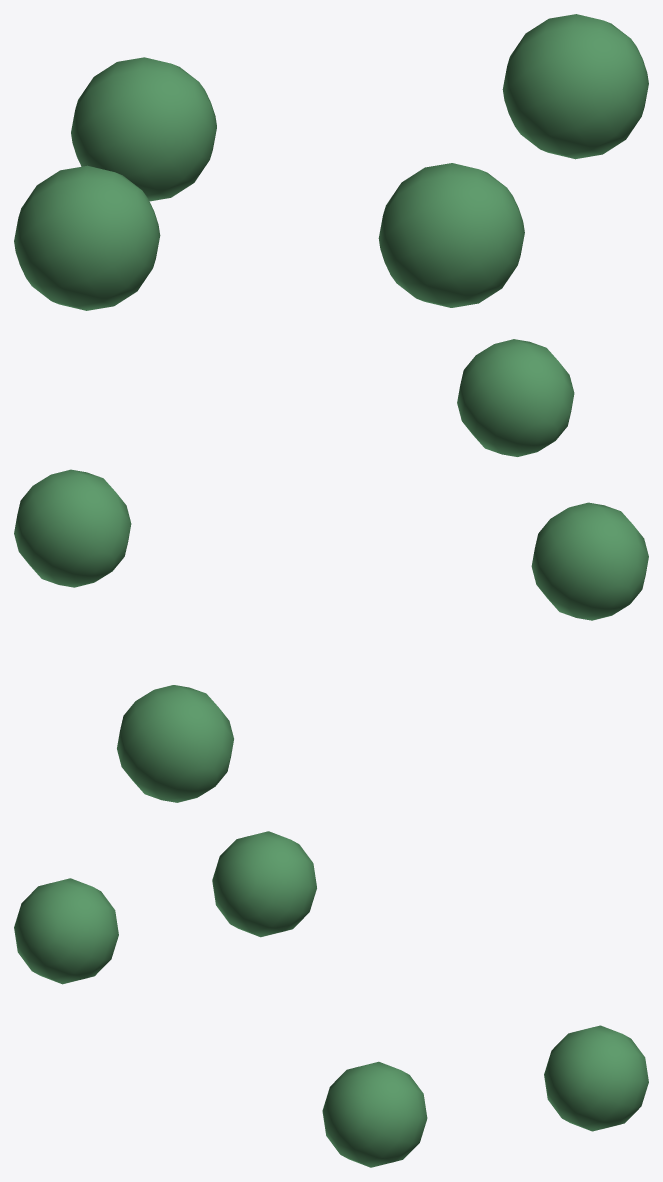
3 views of the same model, one above another, from view 1: azimuth 30°, elevation 25°; view 2: azimuth 150°, elevation 25°; view 3: azimuth 270°, elevation 25° (orthographic). The views are drawn at different scales.
Visible parts, largest first — view 1: 腹腔淋巴结; view 2: 腹腔淋巴结; view 3: 腹腔淋巴结.
Part boxes in pixels (box(x1,y1,x2,y2)): 腹腔淋巴结: box(14, 14, 648, 310); 腹腔淋巴结: box(14, 339, 648, 802); 腹腔淋巴结: box(14, 831, 648, 1167).
Size of the model in its own units: 0.0208 by 0.00882 by 0.0228.
